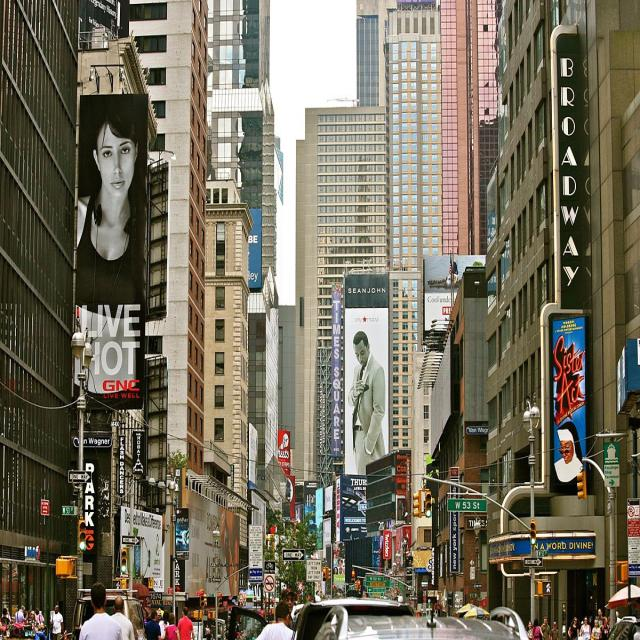body: (74, 102, 146, 402), (346, 326, 388, 481), (78, 582, 124, 640), (312, 533, 348, 596), (253, 599, 300, 639), (554, 422, 581, 483), (0, 602, 45, 631), (109, 594, 135, 640), (205, 619, 255, 640), (279, 584, 296, 628), (177, 605, 195, 640), (143, 609, 163, 639), (49, 604, 65, 639), (162, 613, 180, 639), (332, 540, 345, 576), (157, 610, 170, 640), (530, 616, 544, 640), (578, 615, 592, 639), (599, 616, 612, 639), (539, 615, 551, 639), (567, 616, 579, 639), (591, 618, 602, 639), (550, 620, 559, 640), (596, 607, 604, 628), (524, 619, 532, 635)
